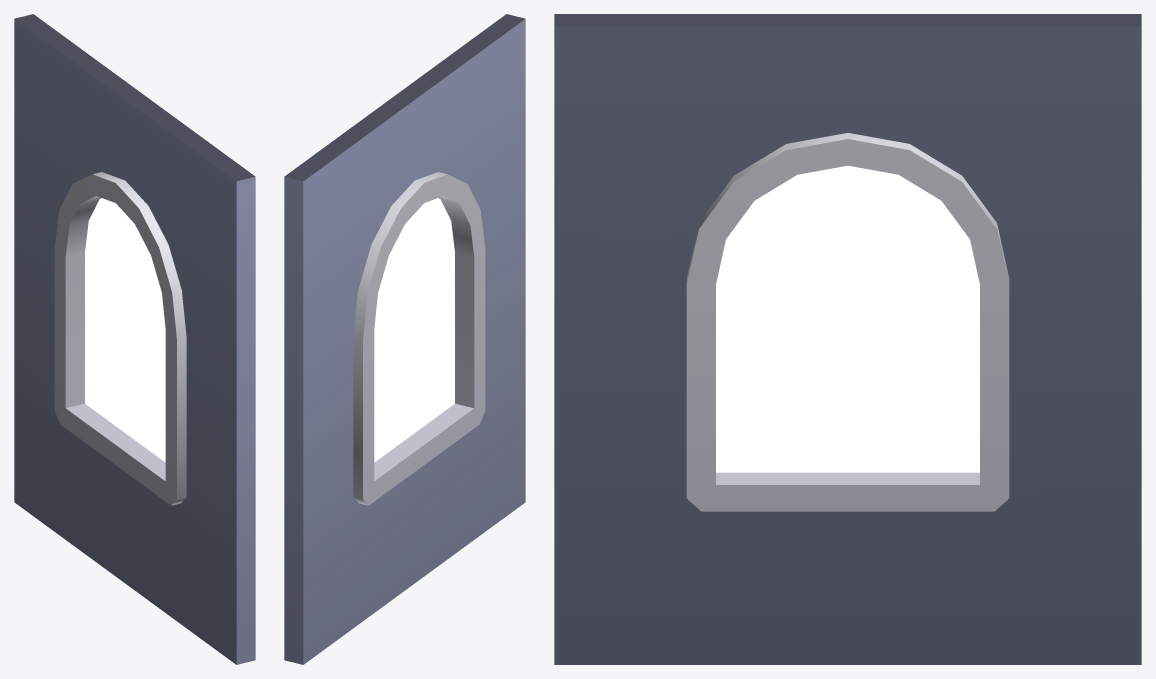
The model's file is kenney-building-wall-window-round.glb.
3 views of the same model, side by side, from view 1: azimuth 30°, elevation 25°; view 2: azimuth 150°, elevation 25°; view 3: azimuth 270°, elevation 25° (orthographic). The views are drawn at different scales.
Parts seen in each view (by area): view 1: wall-window-round, (%ignore); view 2: wall-window-round, (%ignore); view 3: wall-window-round, (%ignore).
Part boxes in pixels (x1,y1,x2,y2): wall-window-round: (14,14,255,664); (%ignore): (85,198,165,462); wall-window-round: (284,14,525,664); (%ignore): (374,198,454,462); wall-window-round: (554,14,1141,664); (%ignore): (716,165,979,472).
Bounding box in the file's own units: 0.2001 × 2.4 × 2.
Materials: 2 (1 with a texture image).
